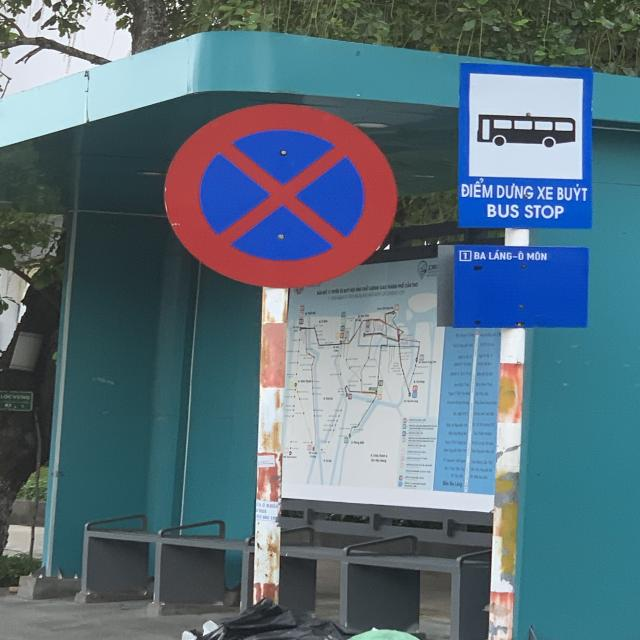Cam_Dung_Va_Dau_Xe: (160, 102, 398, 288)
